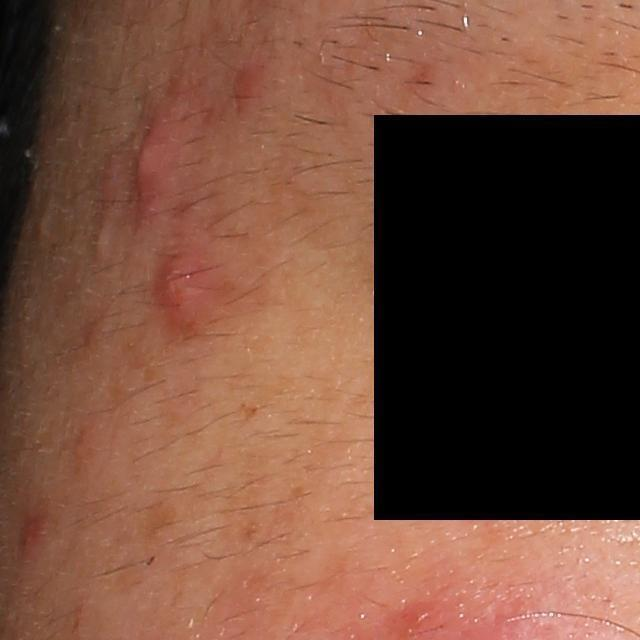papule: (123, 115, 169, 215), (148, 256, 212, 325), (11, 509, 54, 559), (229, 64, 263, 110)
